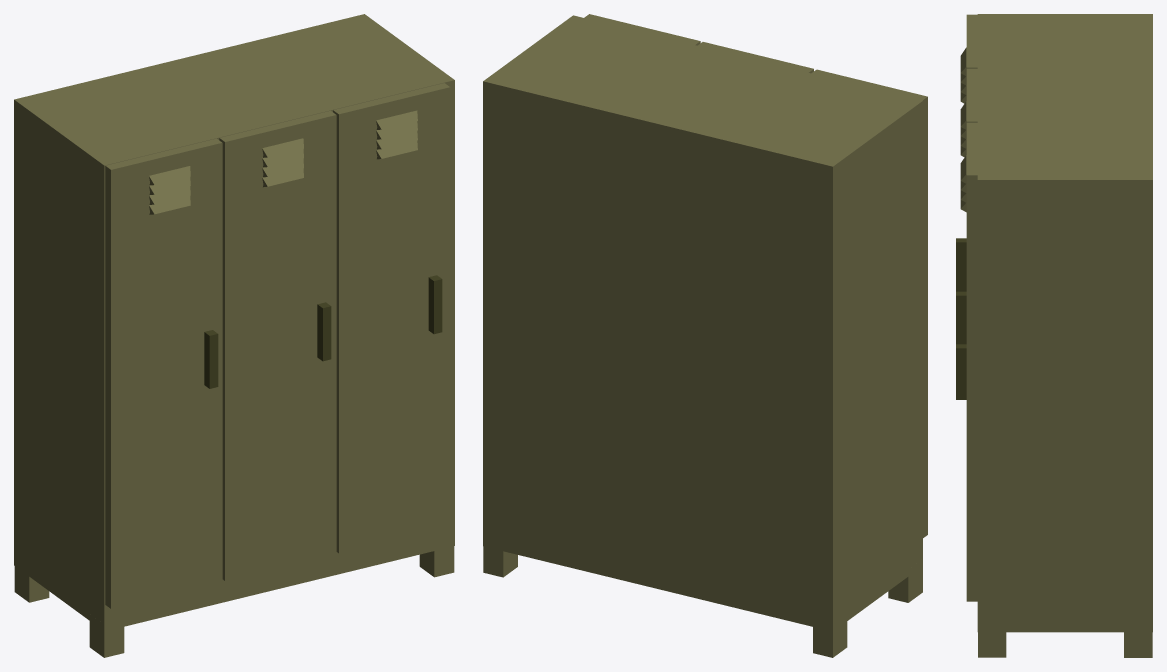
File: 3 set cabinet.fbx
3 views of the same model, side by side, from view 1: azimuth 30°, elevation 25°; view 2: azimuth 150°, elevation 25°; view 3: azimuth 270°, elevation 25° (orthographic). The views are drawn at different scales.
Visible parts, largest first — view 1: pCube48, pCube49; view 2: pCube48; view 3: pCube48, pCube49.
Boxes of the visible parts, x1,y1,x2,y2 form: pCube48: (14,14,454,657); pCube49: (204,275,442,388); pCube48: (483,14,927,657); pCube48: (960,14,1152,657); pCube49: (956,238,966,399).
Size of the model in its own units: 8.76 by 11.75 by 4.39.
